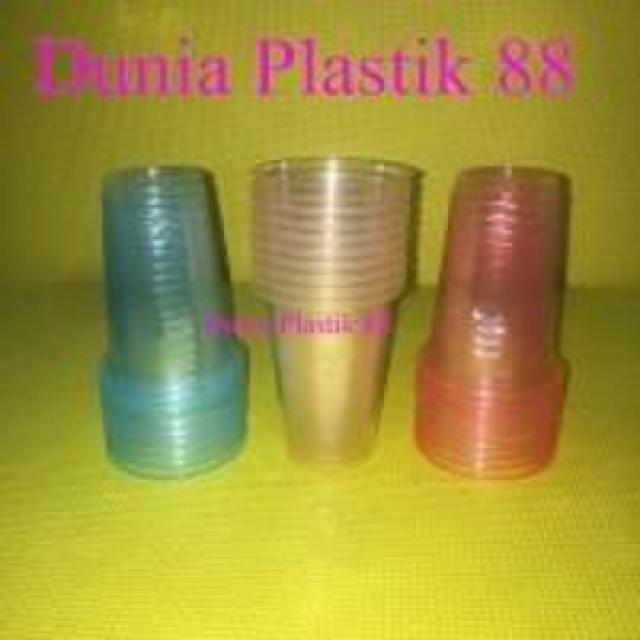plastic cup: (241, 149, 422, 478), (409, 162, 586, 489), (83, 160, 256, 486)
